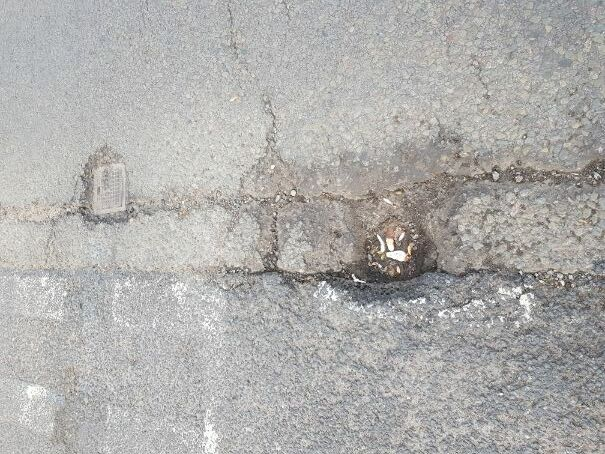pothole: (246, 165, 506, 307)
